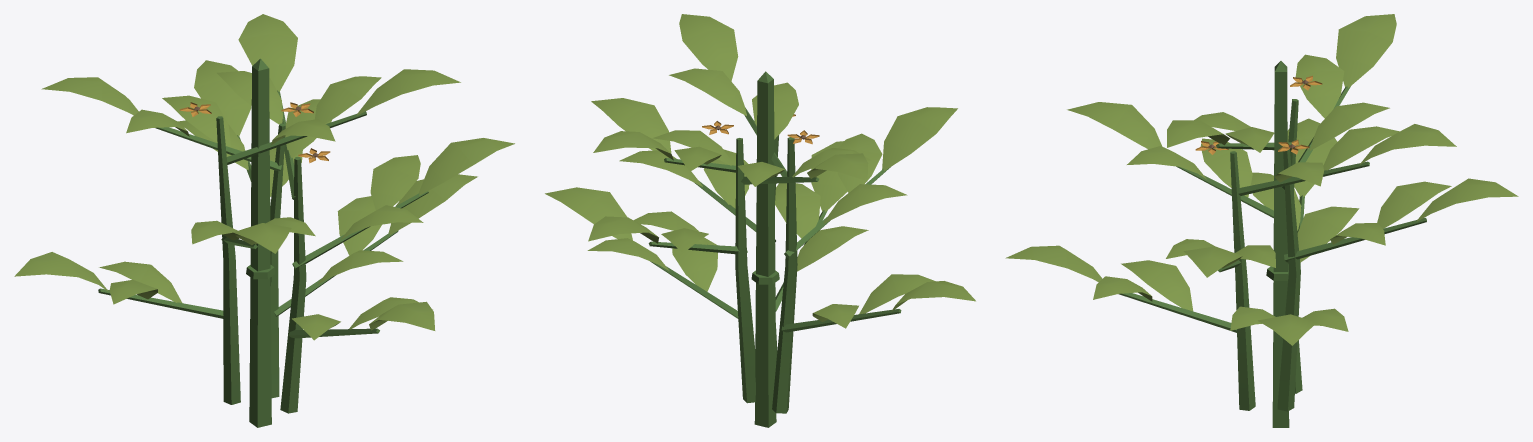
The model's file is crop_tomato_growing.glb.
The picture shows the model from 3 angles, left to right: view 1: azimuth 30°, elevation 25°; view 2: azimuth 150°, elevation 25°; view 3: azimuth 270°, elevation 25°; orthographic projection. The views are drawn at different scales.
Visible parts, largest first — view 1: tomato_leaf_00_00_leaflet_00, tomato_leaf_00_00_petiole, tomato_blossom_00_petals; view 2: tomato_leaf_00_00_leaflet_00, tomato_leaf_00_00_petiole, tomato_blossom_00_petals; view 3: tomato_leaf_00_00_leaflet_00, tomato_leaf_00_00_petiole, tomato_blossom_00_petals.
Boxes of the visible parts, x1,y1,x2,y2 form: tomato_leaf_00_00_leaflet_00: (14, 14, 514, 340); tomato_leaf_00_00_petiole: (98, 58, 428, 427); tomato_blossom_00_petals: (179, 102, 330, 163); tomato_leaf_00_00_leaflet_00: (545, 14, 975, 328); tomato_leaf_00_00_petiole: (648, 71, 901, 427); tomato_blossom_00_petals: (702, 114, 819, 144); tomato_leaf_00_00_leaflet_00: (1005, 14, 1518, 345); tomato_leaf_00_00_petiole: (1118, 61, 1426, 427); tomato_blossom_00_petals: (1195, 75, 1322, 154).
Bounding box in the file's own units: 1.15 × 0.88 × 1.13.
